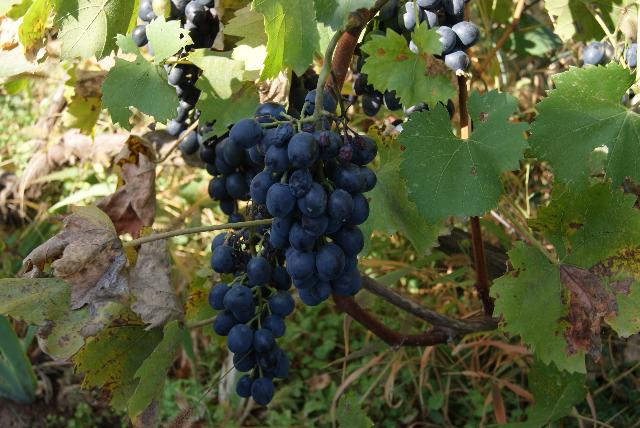grapes: (209, 106, 378, 405)
